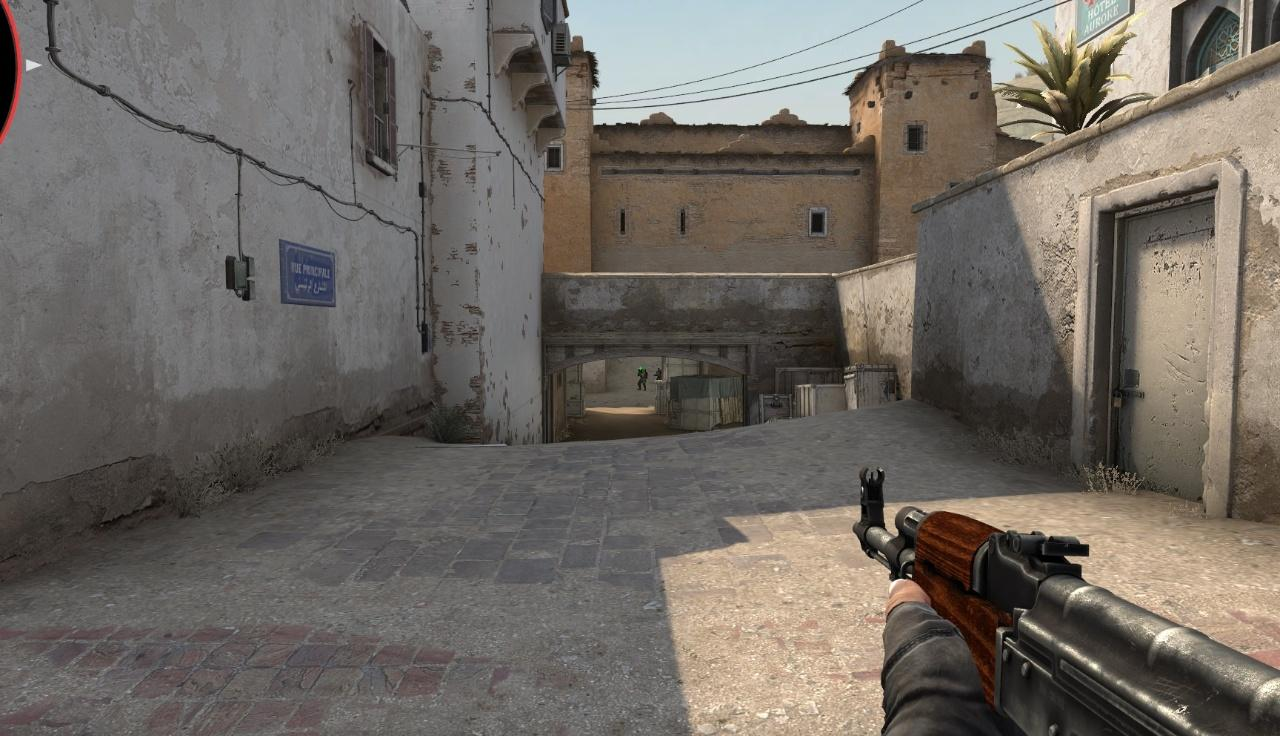ct: (638, 368, 647, 391)
rifle: (850, 469, 1280, 736)
